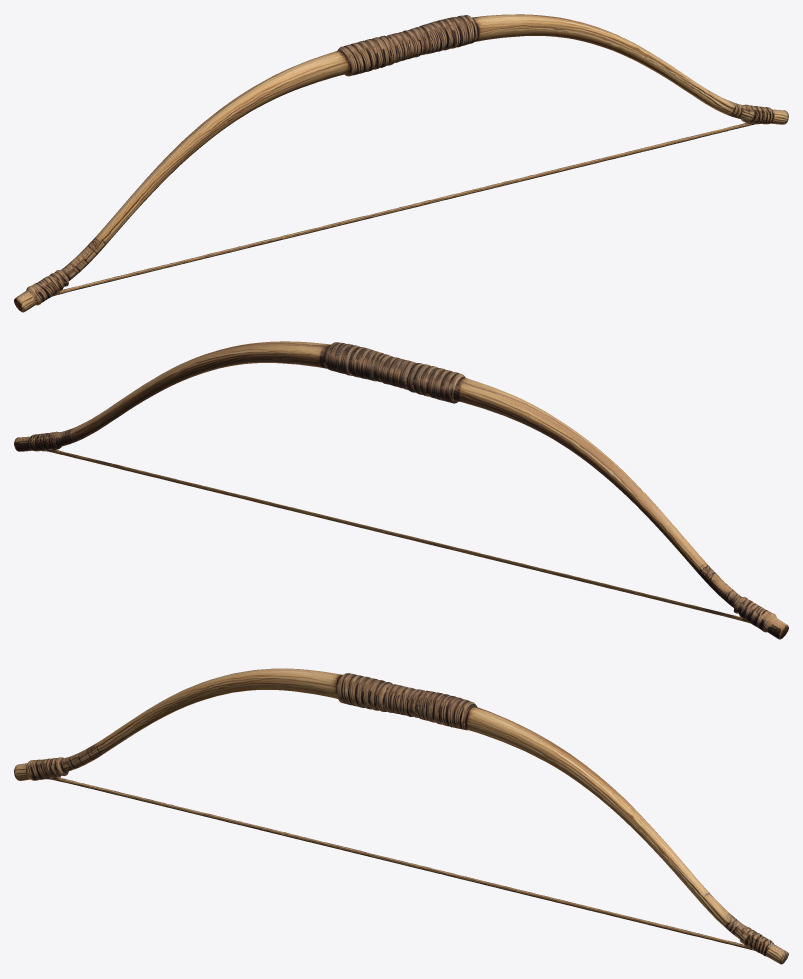
Rendered from Common.glb.
3 renders of one model, top to bottom at view 1: azimuth 30°, elevation 25°; view 2: azimuth 150°, elevation 25°; view 3: azimuth 330°, elevation 25°, orthographic.
Parts seen in each view (by area): view 1: Mesh_0; view 2: Mesh_0; view 3: Mesh_0.
Part boxes in pixels (left/top/right/bottom): Mesh_0: left=14, top=14, right=788, bottom=312; Mesh_0: left=14, top=341, right=788, bottom=639; Mesh_0: left=14, top=668, right=788, bottom=964.
Size of the model in its own units: 1.9 by 0.442 by 0.0673.
1 material, 1 textured.
